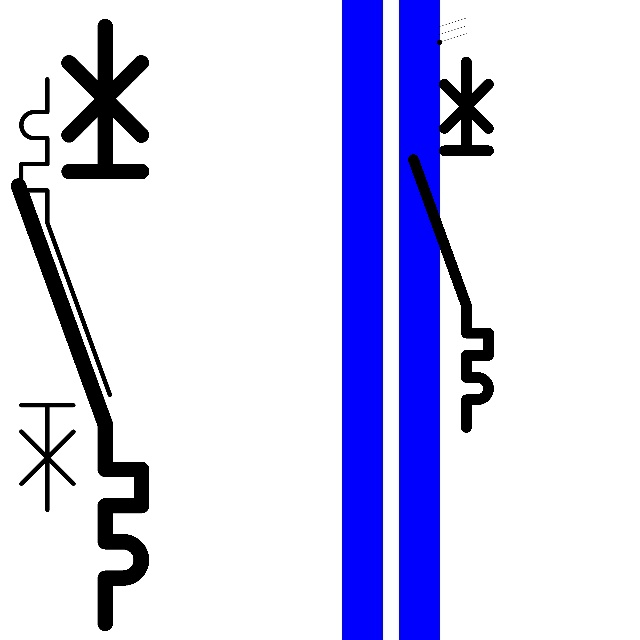interruptor_termomagnetico: (3, 11, 157, 639), (10, 68, 121, 521), (404, 52, 498, 437)
